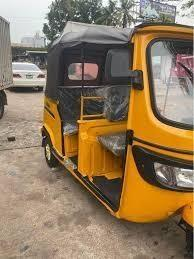keke: (41, 21, 194, 254)
